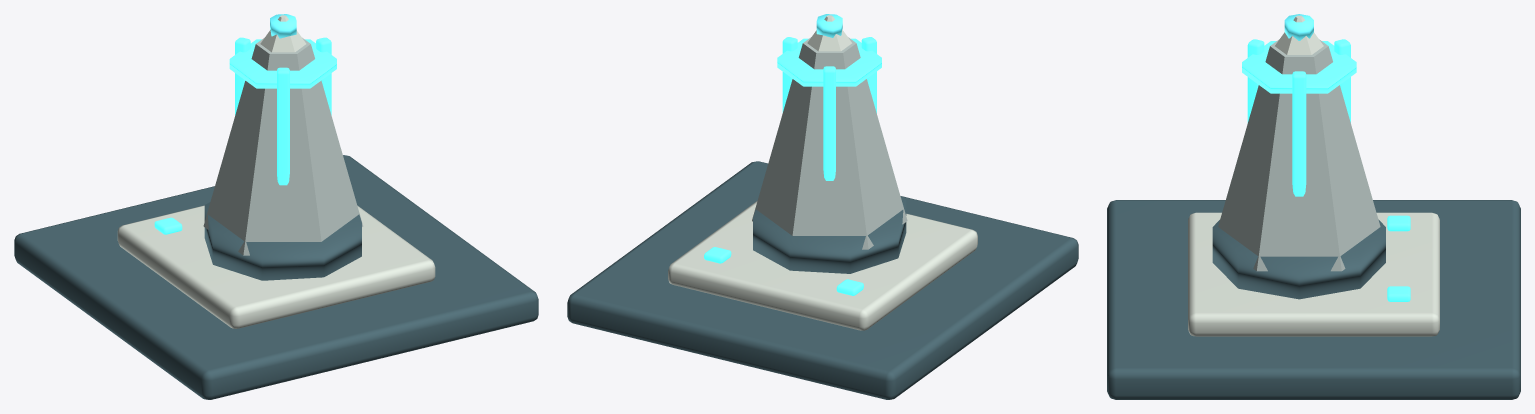
The model's file is signal-obelisk.glb.
The picture shows the model from 3 angles, left to right: view 1: azimuth 30°, elevation 25°; view 2: azimuth 150°, elevation 25°; view 3: azimuth 270°, elevation 25°; orthographic projection. The views are drawn at different scales.
Visible parts, largest first — view 1: Obelisk foundation, Signal monolith, Raised pylon dais, Obelisk socket, Signal corona, Transmitter spine.002, Obelisk crown, Beacon lens, Transmitter spine, Transmitter spine.001; view 2: Obelisk foundation, Signal monolith, Raised pylon dais, Obelisk socket, Signal corona, Transmitter spine.001, Obelisk crown, Beacon lens, Transmitter spine; view 3: Obelisk foundation, Signal monolith, Raised pylon dais, Obelisk socket, Signal corona, Transmitter spine, Obelisk crown, Beacon lens, Transmitter spine.002, Transmitter spine.001, Dais corner light, Dais corner light.001.
Boxes of the visible parts, x1,y1,x2,y2 form: Obelisk foundation: (14,155,538,399); Signal monolith: (203,37,363,255); Raised pylon dais: (117,205,435,328); Obelisk socket: (204,202,361,280); Signal corona: (229,39,336,88); Transmitter spine.002: (277,67,289,185); Obelisk crown: (260,15,306,52); Beacon lens: (270,14,296,38); Transmitter spine: (316,37,331,115); Transmitter spine.001: (235,37,250,115); Obelisk foundation: (567,161,1078,399); Signal monolith: (752,37,907,249); Raised pylon dais: (668,201,977,330); Obelisk socket: (753,197,906,273); Signal corona: (777,38,881,86); Transmitter spine.001: (823,66,835,180); Obelisk crown: (807,15,851,51); Beacon lens: (816,14,842,37); Transmitter spine: (782,37,797,112); Obelisk foundation: (1107,200,1520,399); Signal monolith: (1218,39,1380,271); Raised pylon dais: (1188,212,1439,336); Obelisk socket: (1212,219,1385,299); Signal corona: (1242,41,1356,93); Transmitter spine: (1292,71,1306,196); Obelisk crown: (1275,15,1323,54); Beacon lens: (1284,14,1313,40); Transmitter spine.002: (1247,39,1264,122); Transmitter spine.001: (1334,39,1350,122); Dais corner light: (1387,215,1410,231); Dais corner light.001: (1387,286,1410,301).
Bounding box in the file's own units: 2.82 × 2.25 × 2.82.
